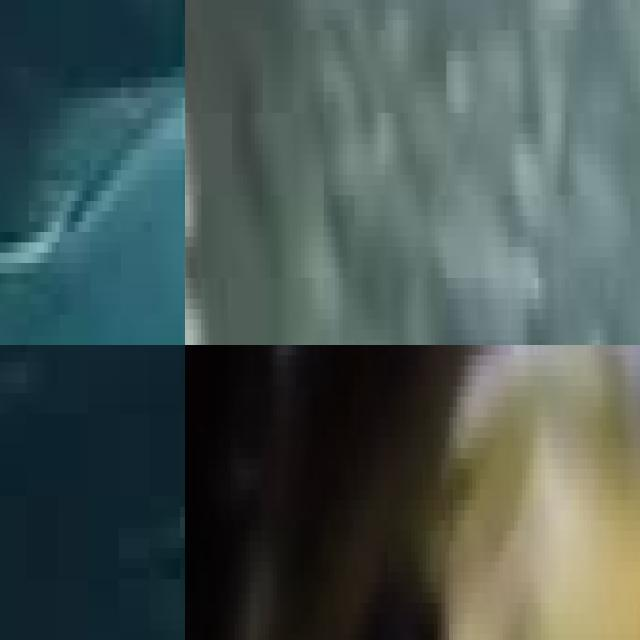fish: (185, 345, 583, 640), (0, 0, 185, 345)
